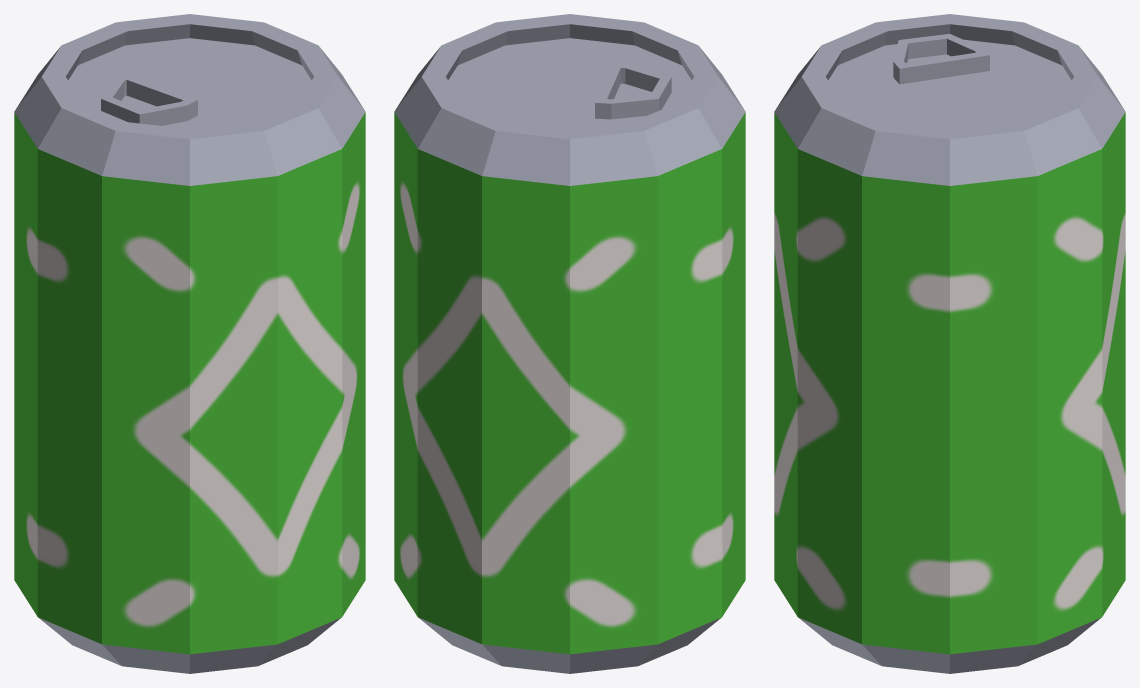
The model's file is beercan.fbx.
The picture shows the model from 3 angles, left to right: view 1: azimuth 30°, elevation 25°; view 2: azimuth 150°, elevation 25°; view 3: azimuth 270°, elevation 25°; orthographic projection.
Parts seen in each view (by area): view 1: beercan; view 2: beercan; view 3: beercan.
Boxes of the visible parts, x1=… form: beercan: x1=14, y1=14, x2=365, y2=673; beercan: x1=394, y1=14, x2=745, y2=673; beercan: x1=774, y1=14, x2=1125, y2=673.
Bounding box in the file's own units: 50.18 × 85.04 × 50.18.
